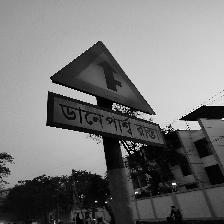Side-road-right: (46, 40, 162, 148)
